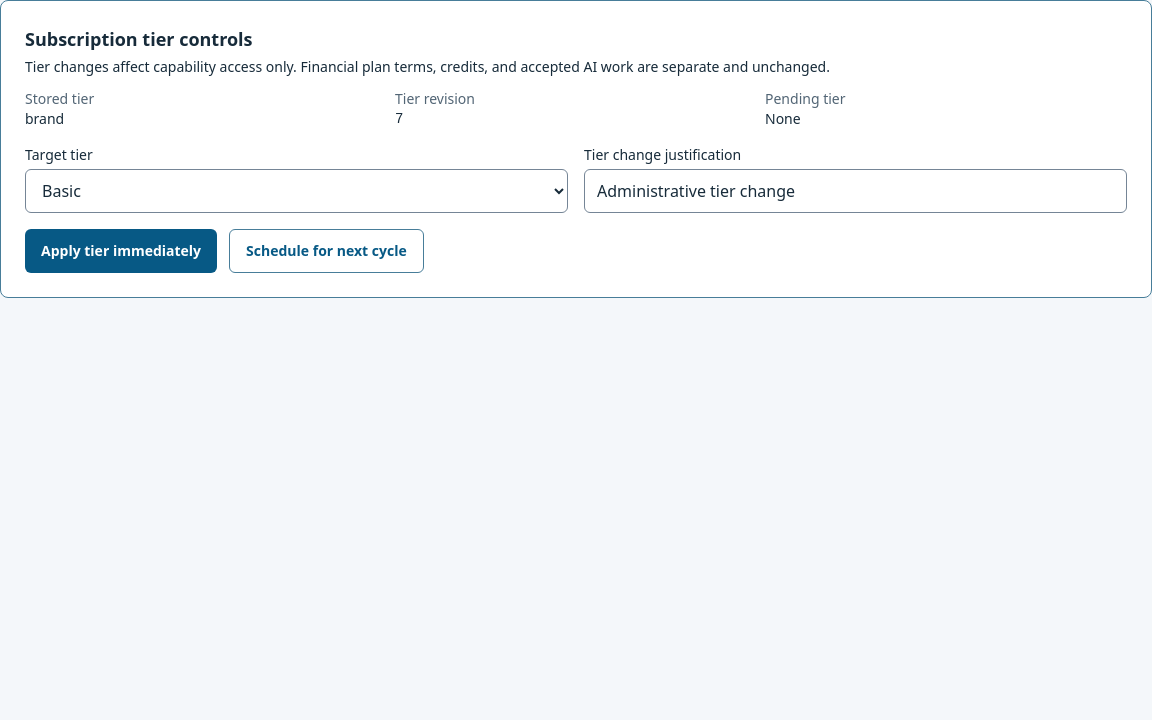
Test: SubscriptionTierControls › blocks confirmation when the bounded preview omits deadline groups
The width and height of the screenshot is (1152, 720).
Click the button "Schedule for next cycle": (326, 251) [229,229,424,273]
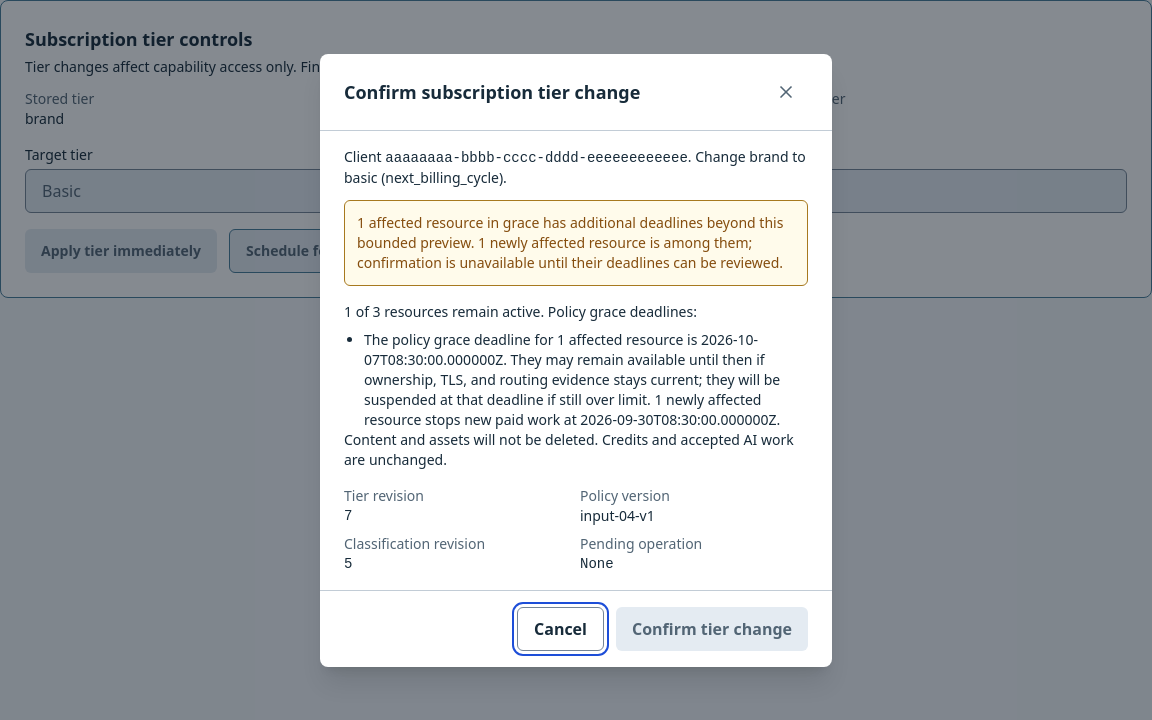
Check: the dialog shows "1 affected resource in grace has additional deadlines", box [320,54,832,666]
Check: the button "Confirm tier change" is disabled, box [616,606,808,650]
